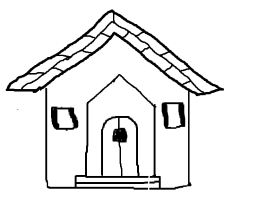door: (98, 115, 143, 183)
open_window: (161, 102, 186, 129), (50, 106, 79, 129)
roof: (5, 9, 224, 96)
wall: (42, 72, 193, 193)
